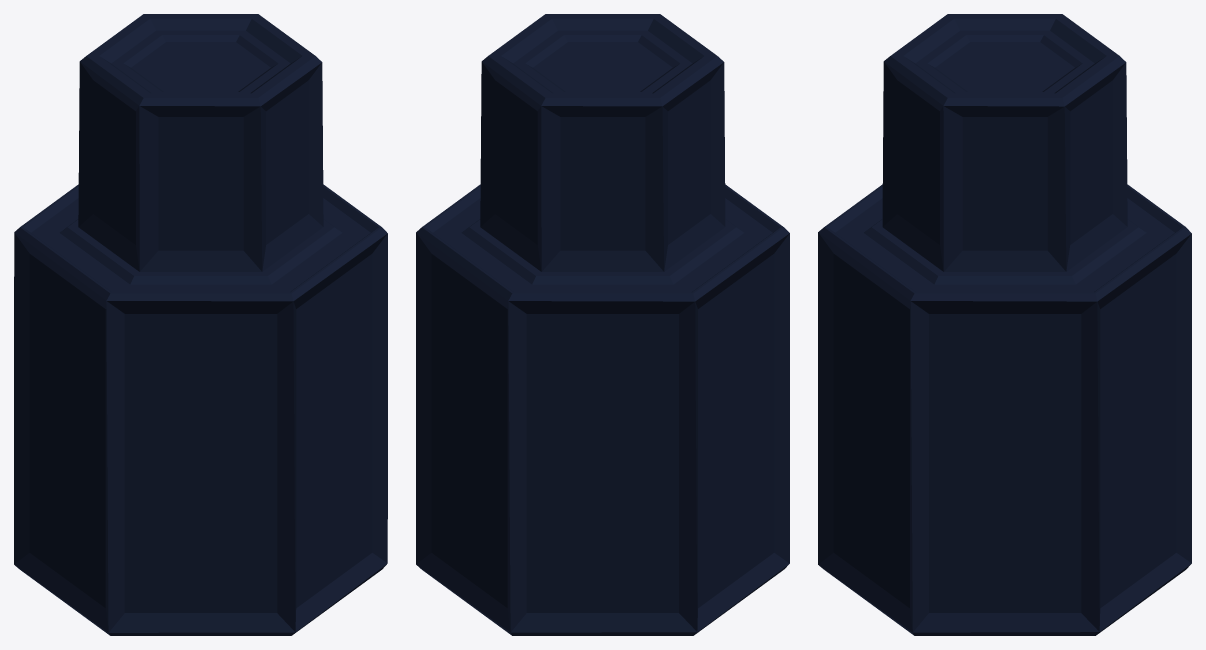
File: forest_rock_2.FBX
3 views of the same model, side by side, from view 1: azimuth 30°, elevation 25°; view 2: azimuth 150°, elevation 25°; view 3: azimuth 270°, elevation 25° (orthographic).
Visible parts, largest first — view 1: Cylinder.001; view 2: Cylinder.001; view 3: Cylinder.001.
Part boxes in pixels (x1,y1,x2,y2): Cylinder.001: [14, 14, 387, 635]; Cylinder.001: [416, 14, 789, 635]; Cylinder.001: [818, 14, 1191, 635].
Size of the model in its own units: 2.25 by 3.92 by 2.58.
